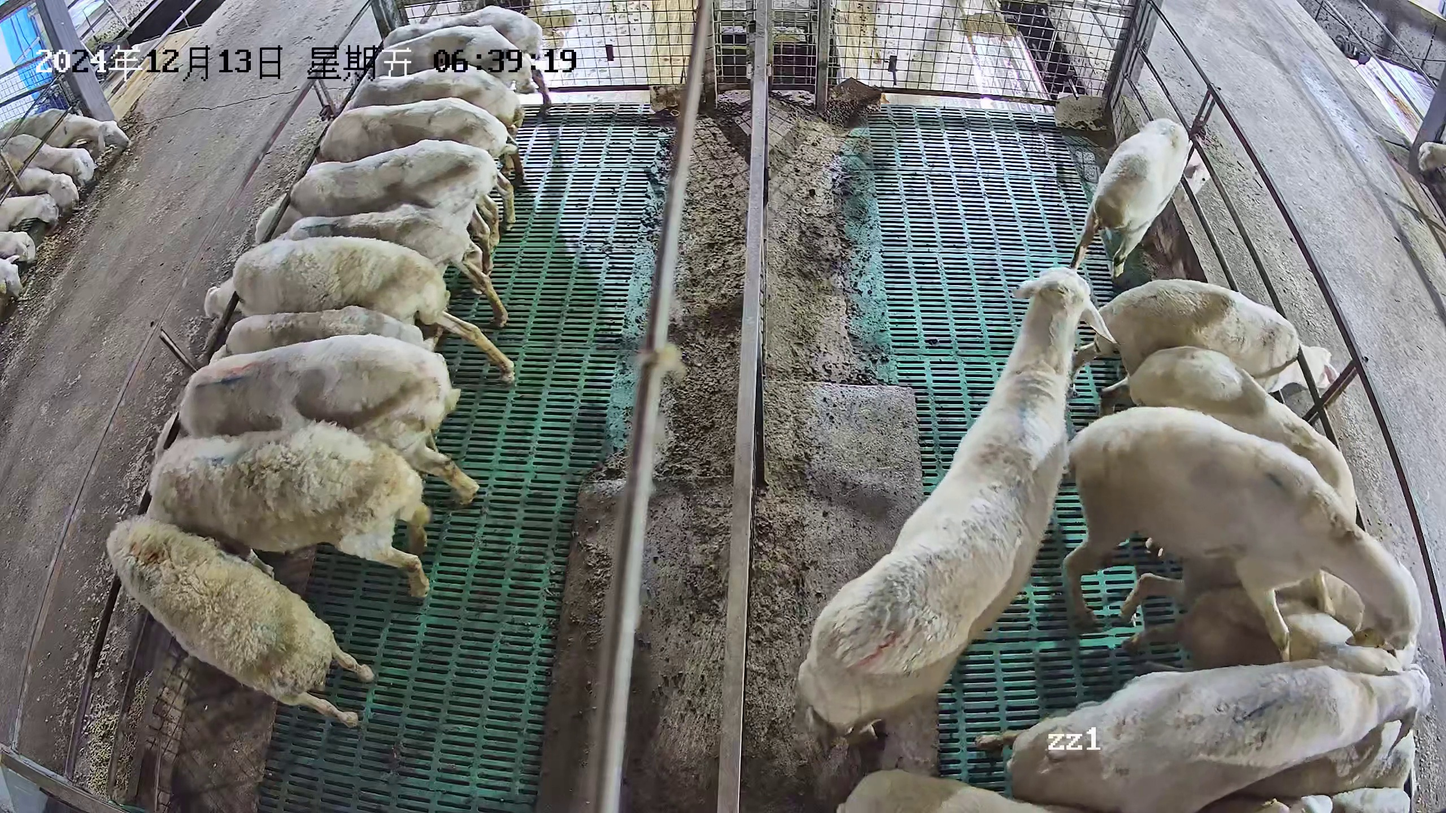Nmounting: (1059, 405, 1422, 665)
